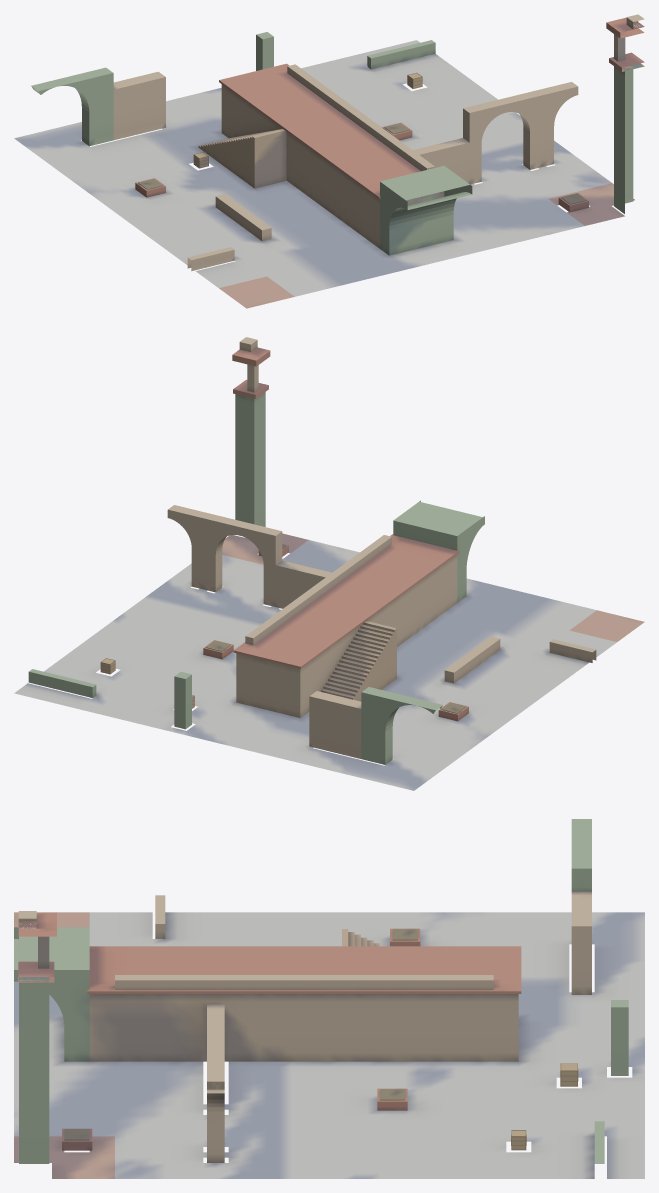
3 renders of one model, top to bottom at view 1: azimuth 30°, elevation 25°; view 2: azimuth 150°, elevation 25°; view 3: azimuth 270°, elevation 25°, orthographic. The views are drawn at different scales.
Visible parts, largest first — view 1: t; view 2: t; view 3: t.
Part boxes in pixels (x1,y1,x2,y2): t: [14, 14, 644, 308]; t: [14, 337, 644, 790]; t: [14, 819, 644, 1178].
Size of the model in its own units: 50.38 by 22.6 by 50.
